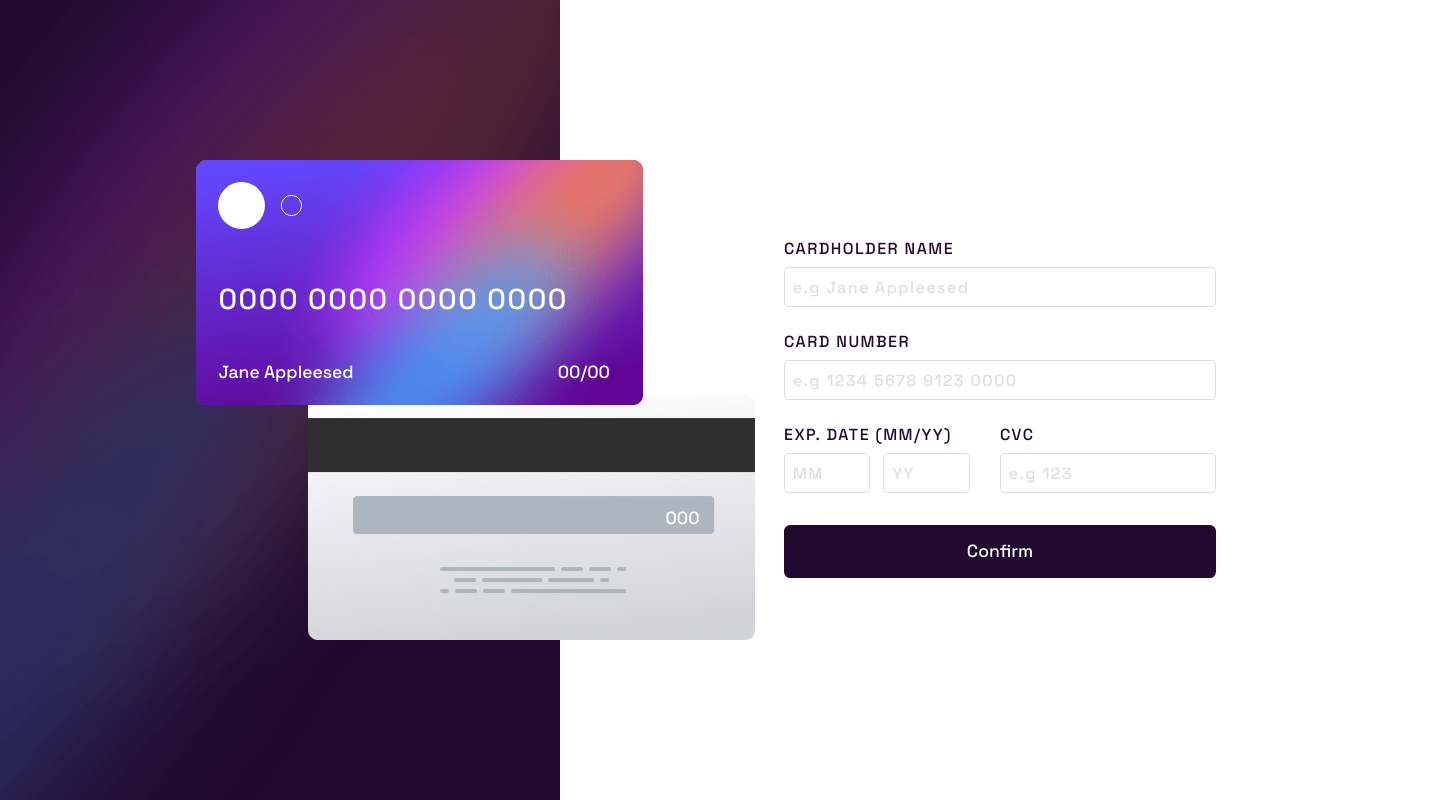
it: Test form name input › test blank name input should show error (Cannot be blank)
# Write input card input
Type "1234 5678 9123 4567" into the field with placeholder "e.g 1234 5678 9123 0000" at (1000, 380), box [784,360,1216,400]
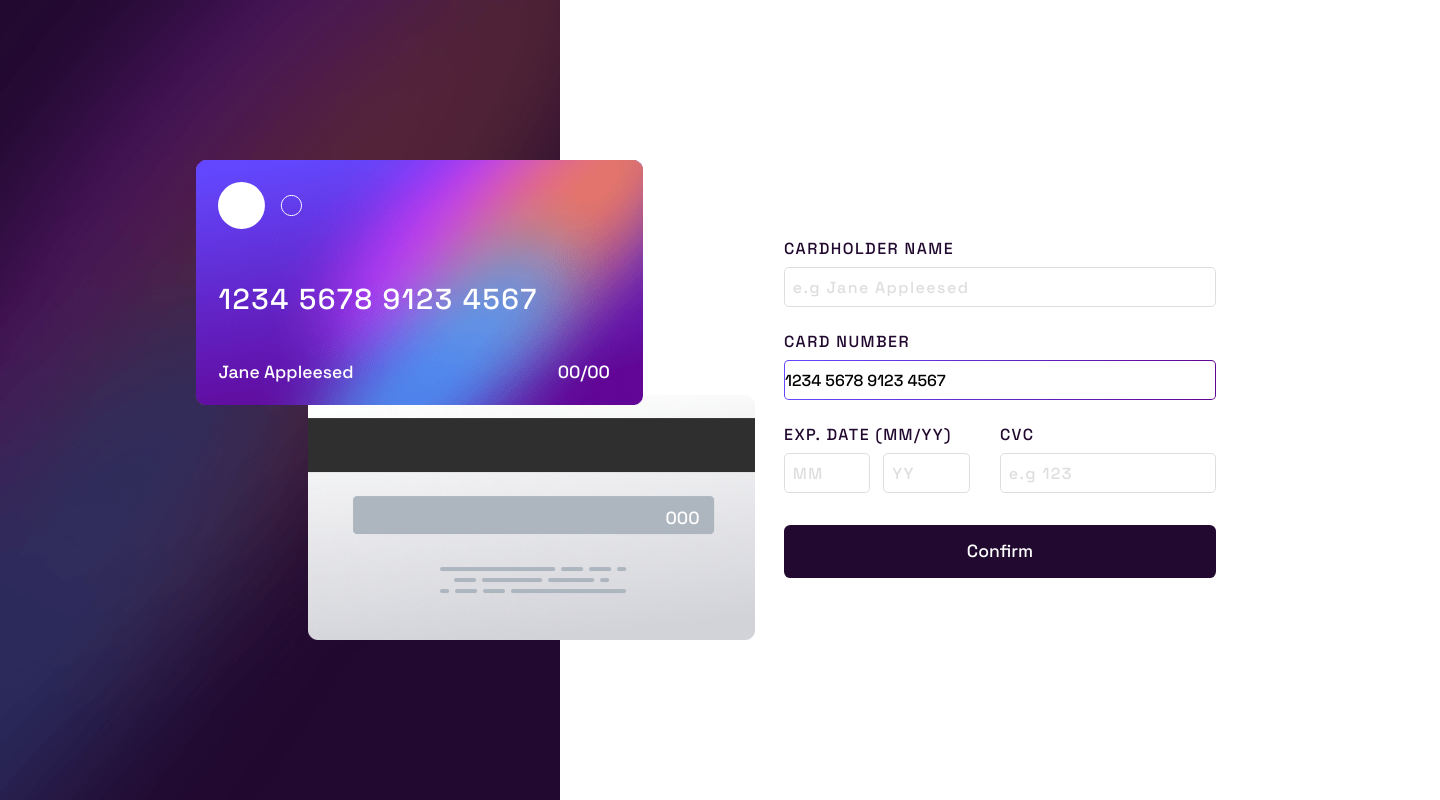
# Write input MM
Type "12" into the field with placeholder "MM" at (827, 473), box [784,453,870,493]
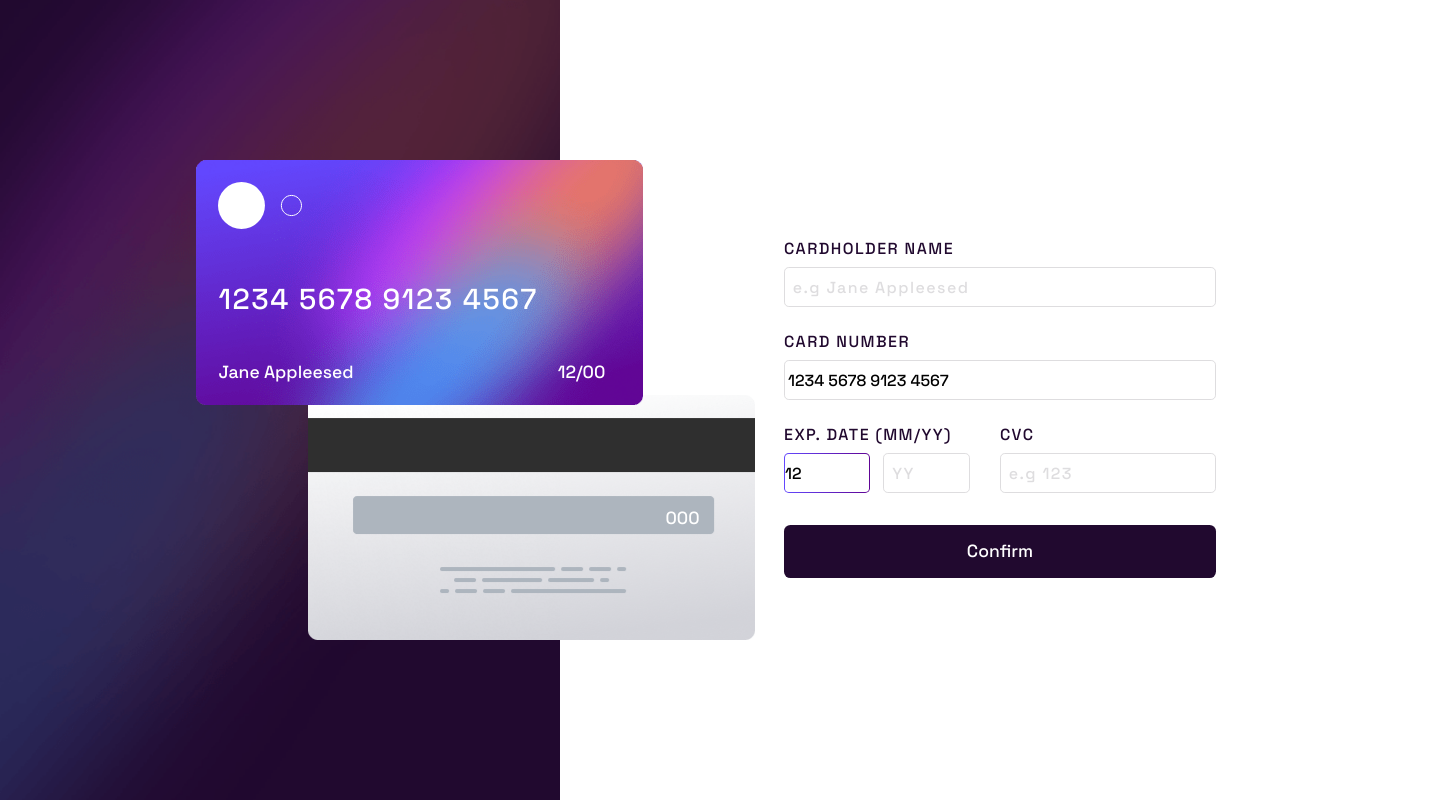
# Write input YY
Type "24" into the field with placeholder "YY" at (926, 473), box [883,453,969,493]
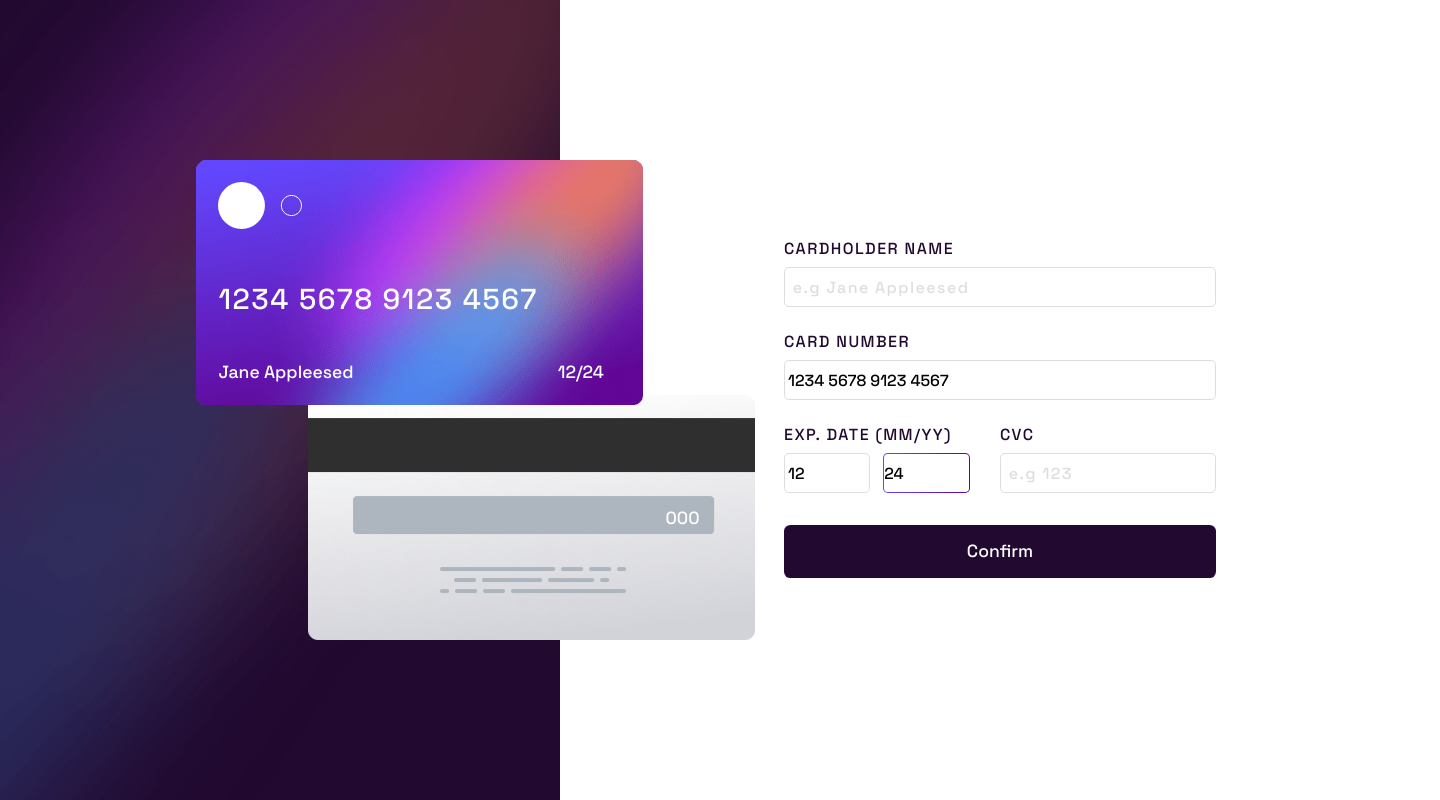
# Write input CVC
Type "123" into the field with placeholder "e.g 123" at (1108, 473), box [1000,453,1216,493]
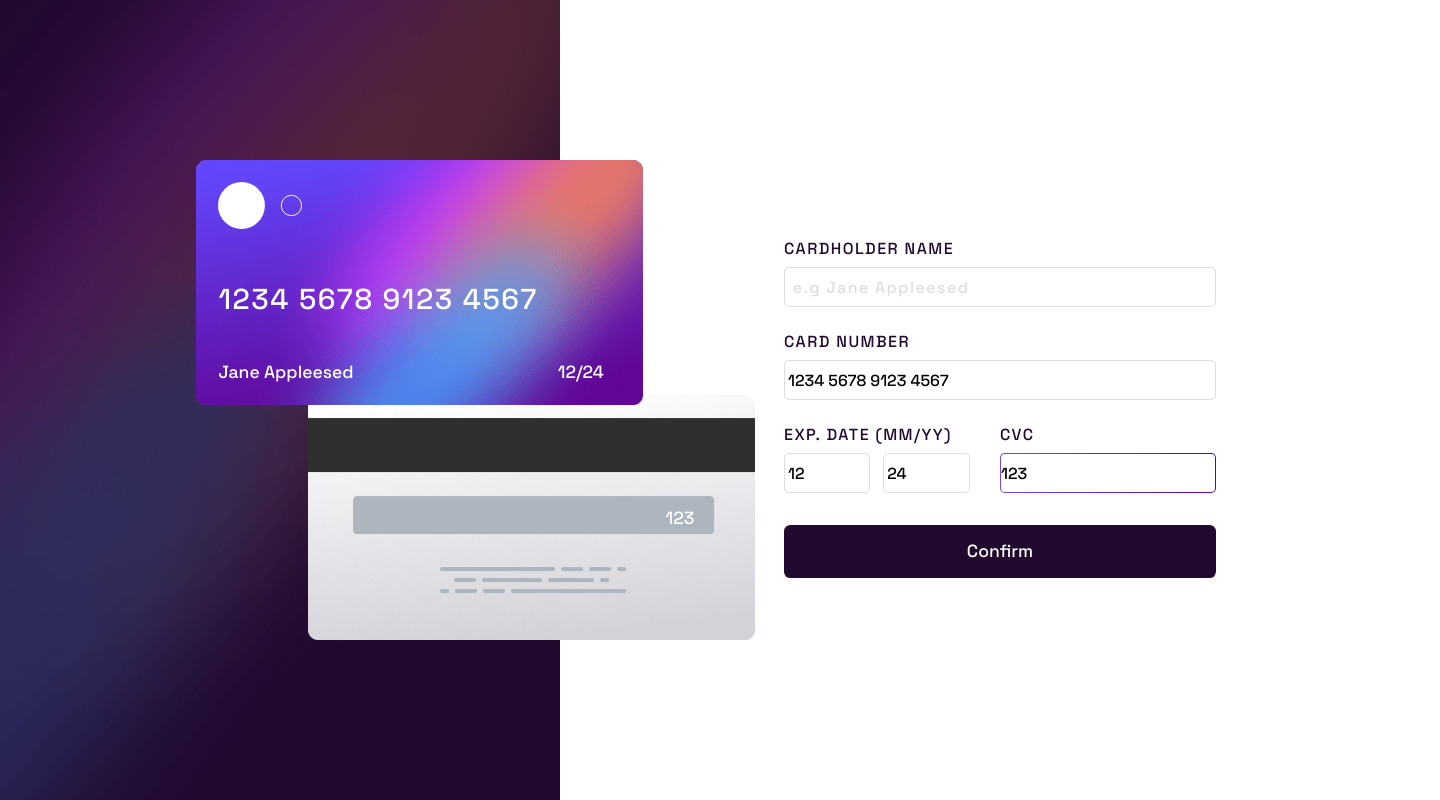
Click the button with class "confirmation-btn" at (1000, 552), box [784,525,1216,578]
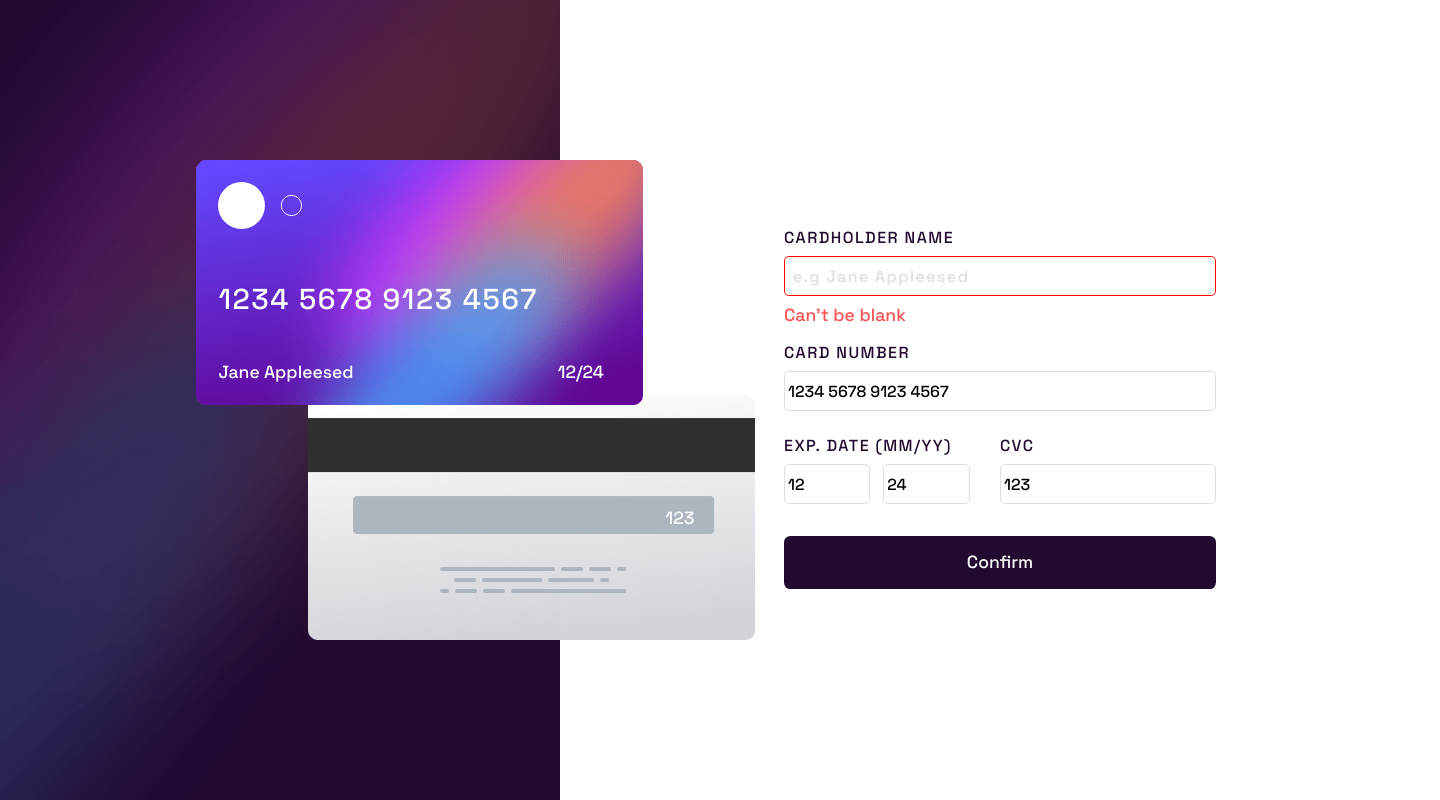
Now the text "Can't be blank" is shown, box [784,304,906,326]
